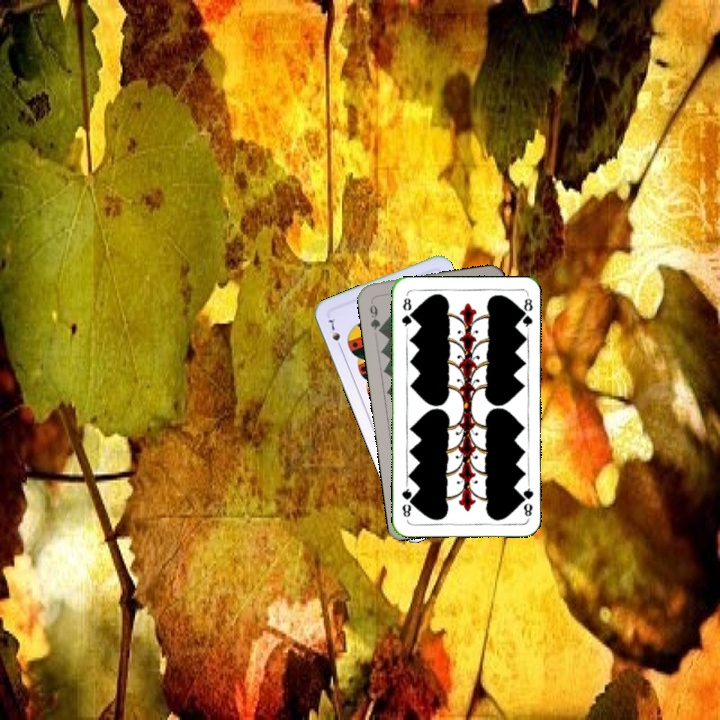G8: (516, 480, 535, 521), (397, 294, 414, 332)
G9: (365, 296, 385, 336)
S7: (324, 314, 345, 352)
